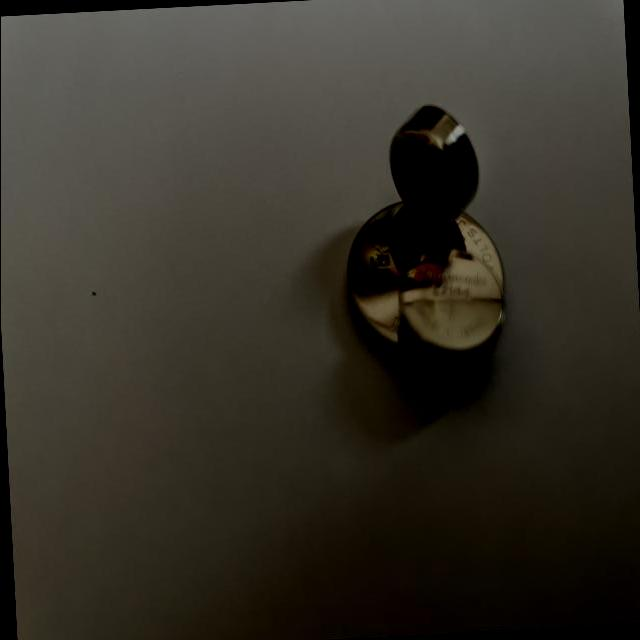COIN: (342, 196, 520, 371), (394, 252, 510, 376), (384, 95, 484, 228)
